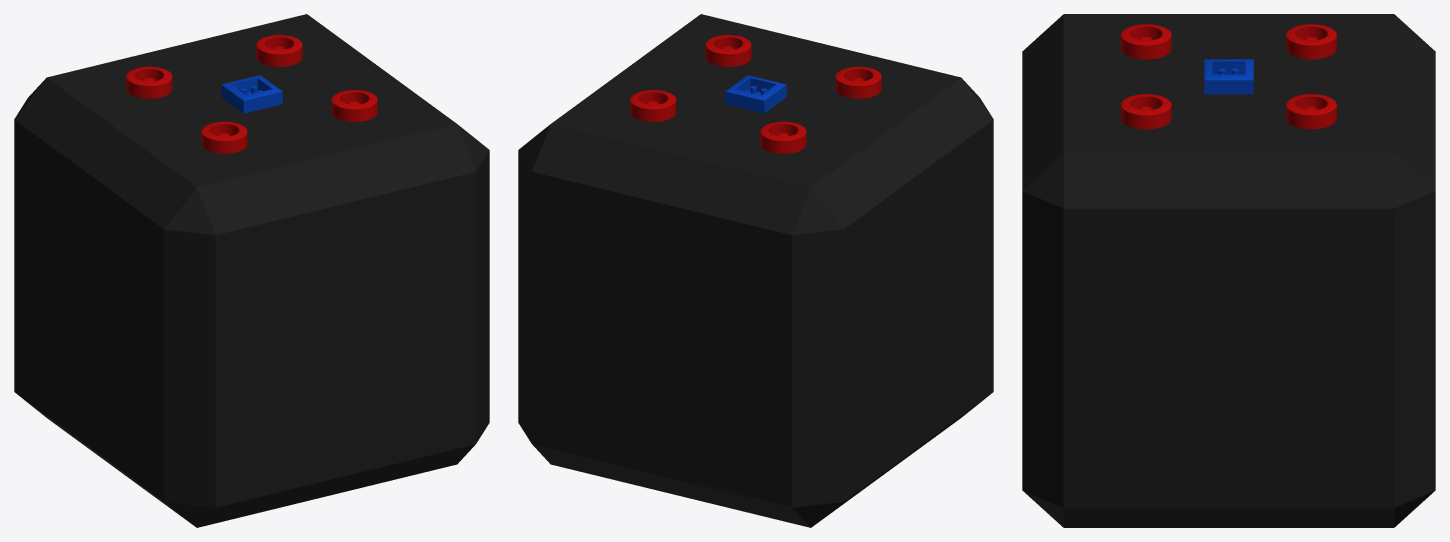
The model's file is LowVoltageBattery.gltf.
3 views of the same model, side by side, from view 1: azimuth 30°, elevation 25°; view 2: azimuth 150°, elevation 25°; view 3: azimuth 270°, elevation 25° (orthographic). The views are drawn at different scales.
Parts seen in each view (by area): view 1: base; view 2: base; view 3: base.
Part boxes in pixels (box(x1,y1,x2,y2)): base: box(14, 14, 489, 527); base: box(518, 14, 993, 527); base: box(1022, 14, 1435, 527).
Bounding box in the file's own units: 0.5 × 0.5206 × 0.5.
